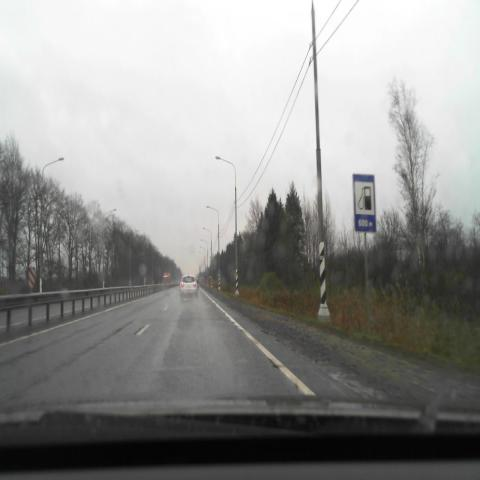7_3: (353, 173, 376, 233)
